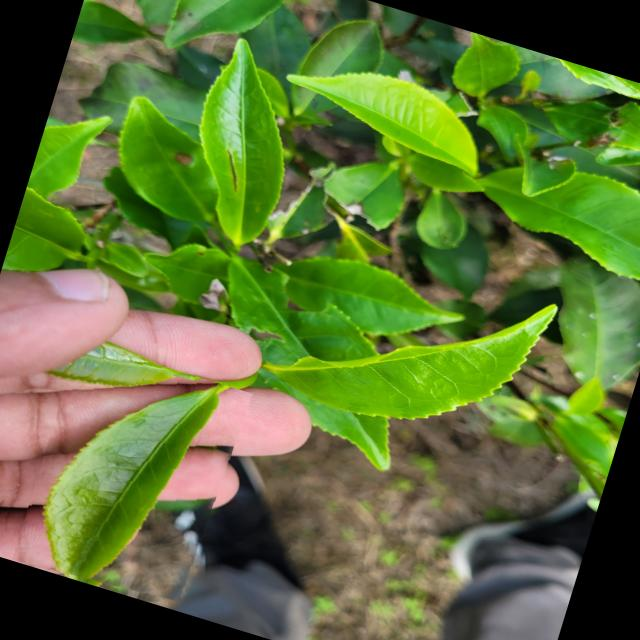Category B(2-4 days): (11, 341, 252, 614)
